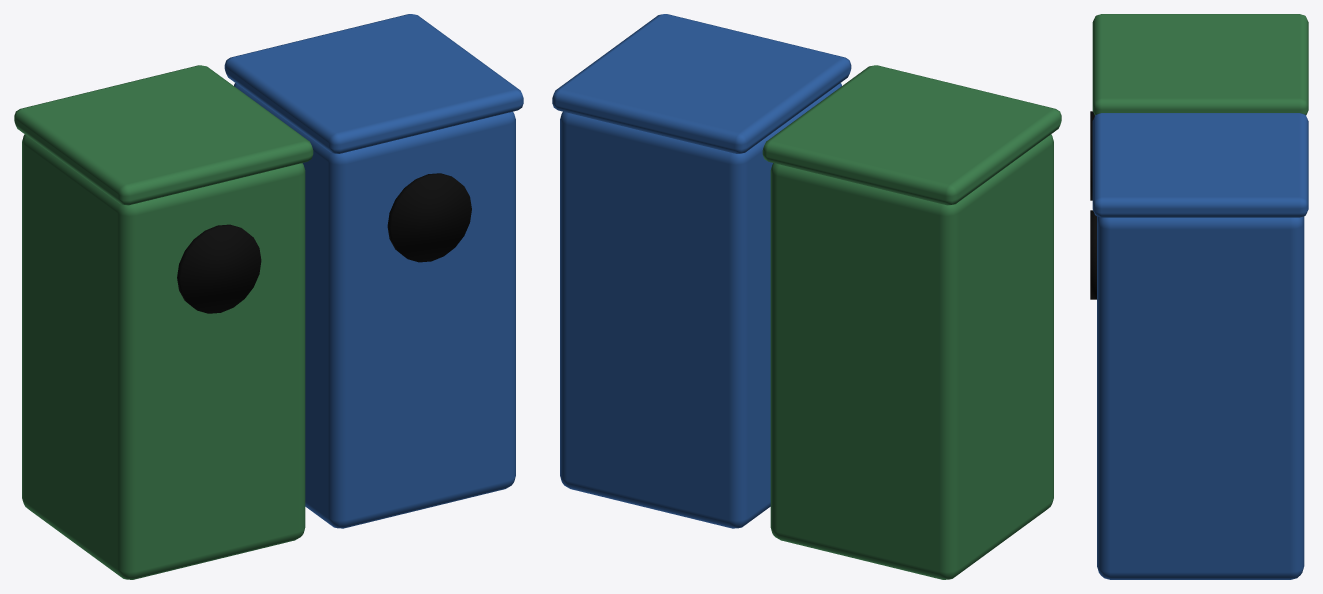
Rendered from trash_bins.glb.
The picture shows the model from 3 angles, left to right: view 1: azimuth 30°, elevation 25°; view 2: azimuth 150°, elevation 25°; view 3: azimuth 270°, elevation 25°; orthographic projection. The views are drawn at different scales.
Visible parts, largest first — view 1: trash_bins; view 2: trash_bins; view 3: trash_bins.
Boxes of the visible parts, bbox=[...] form: trash_bins: bbox=[14, 14, 523, 579]; trash_bins: bbox=[552, 14, 1061, 579]; trash_bins: bbox=[1090, 14, 1308, 579].
Bounding box in the file's own units: 1 × 0.945 × 0.485.
